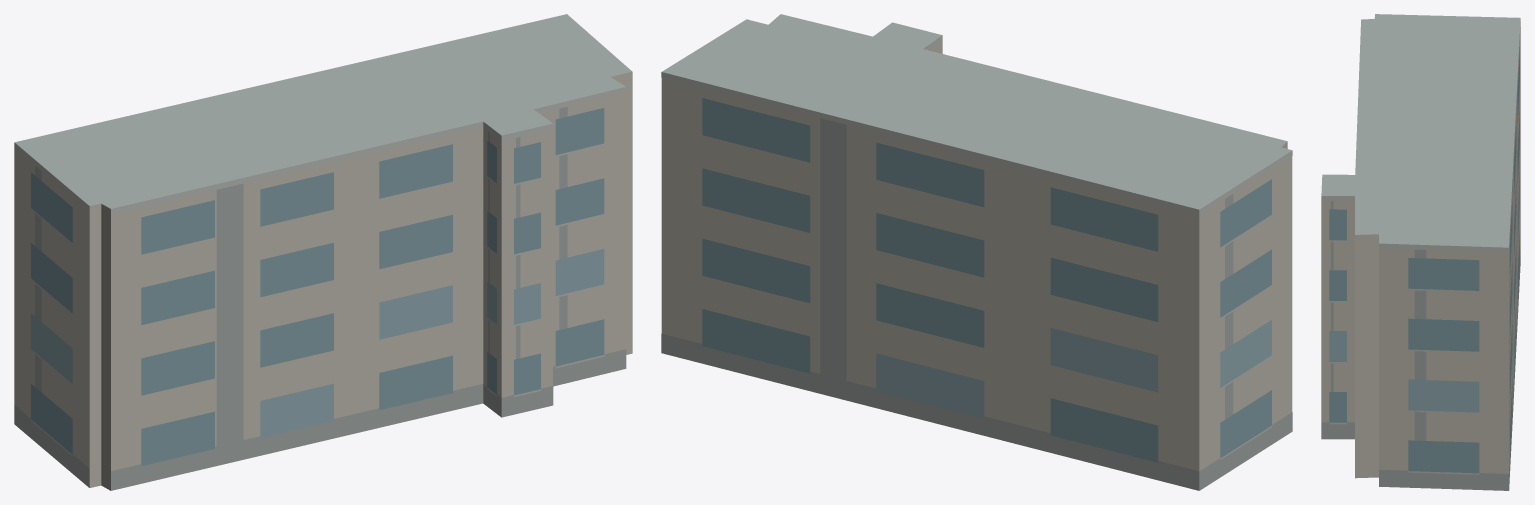
The model's file is survey-upis-32576270.glb.
The picture shows the model from 3 angles, left to right: view 1: azimuth 30°, elevation 25°; view 2: azimuth 150°, elevation 25°; view 3: azimuth 270°, elevation 25°; orthographic projection. The views are drawn at different scales.
Visible parts, largest first — view 1: survey-upis-32576270.tmp; view 2: survey-upis-32576270.tmp; view 3: survey-upis-32576270.tmp.
Boxes of the visible parts, left/top/right/bottom form: survey-upis-32576270.tmp: left=14, top=14, right=632, bottom=490; survey-upis-32576270.tmp: left=661, top=14, right=1292, bottom=490; survey-upis-32576270.tmp: left=1321, top=14, right=1520, bottom=490.
Size of the model in its own units: 24.94 by 12.1 by 9.
